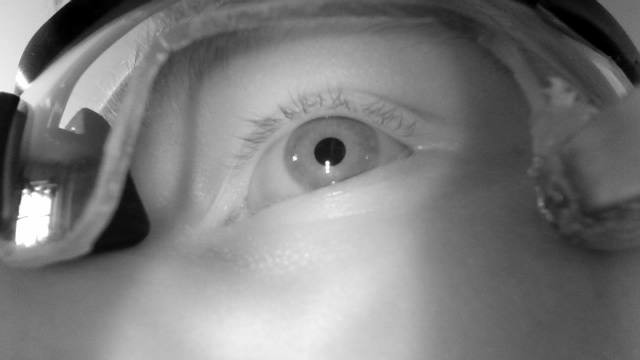pupil: (313, 137, 347, 167)
